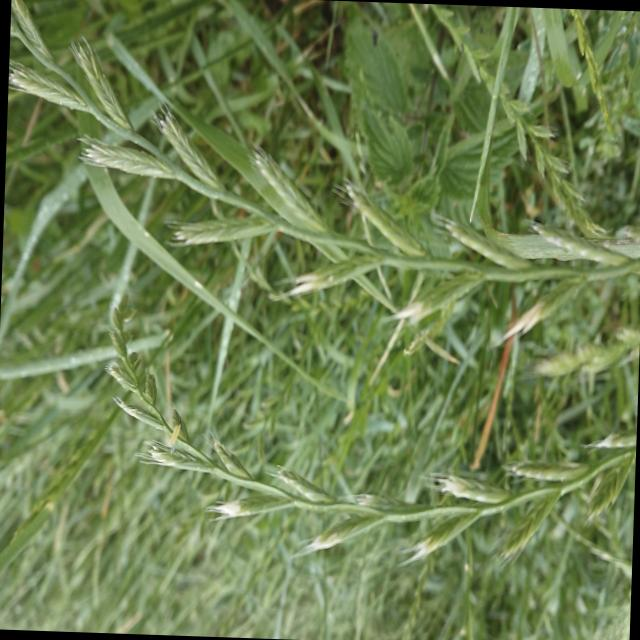Lolium: (3, 0, 640, 313), (101, 311, 640, 573)
